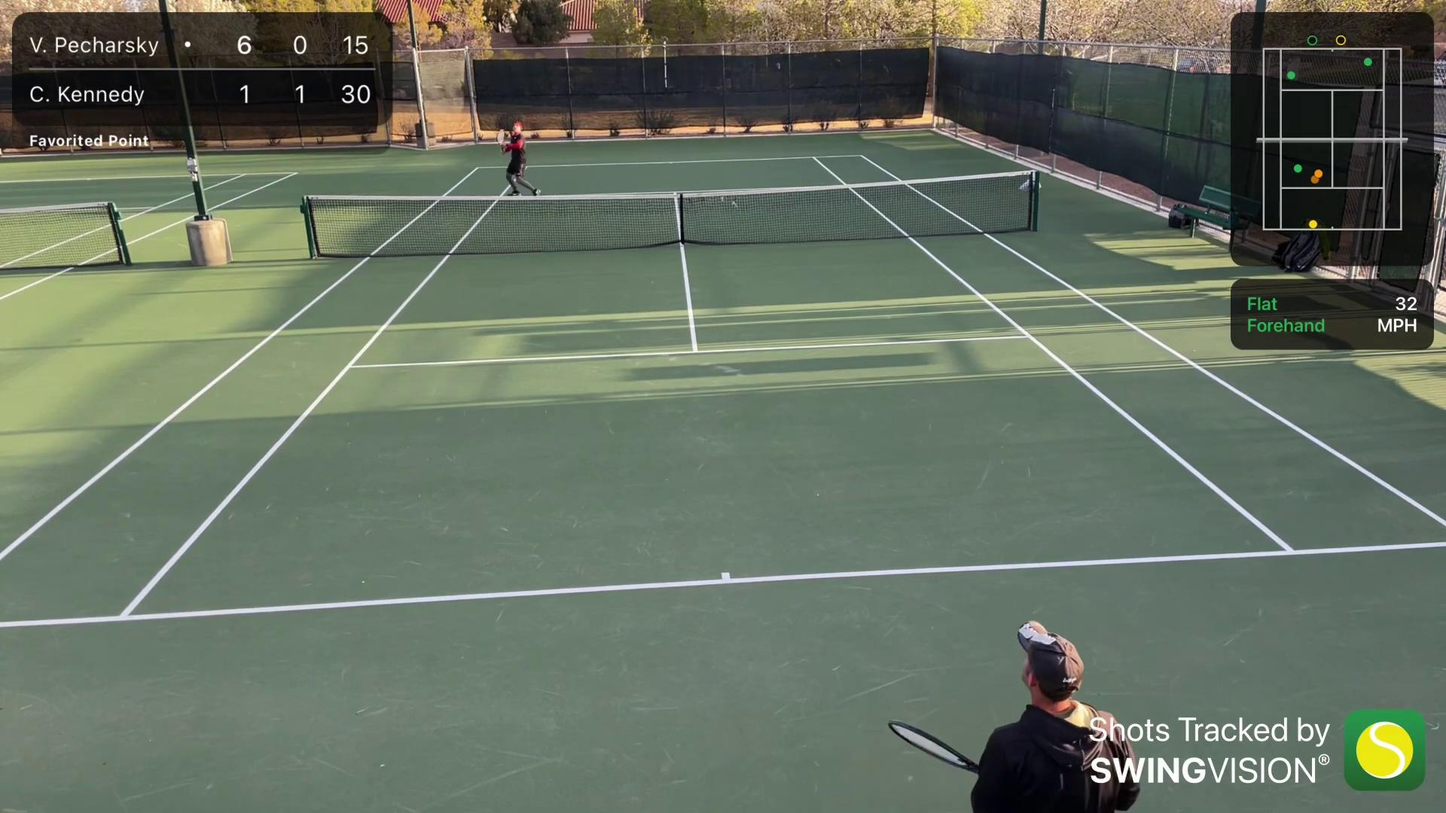ball: (480, 14, 487, 21)
